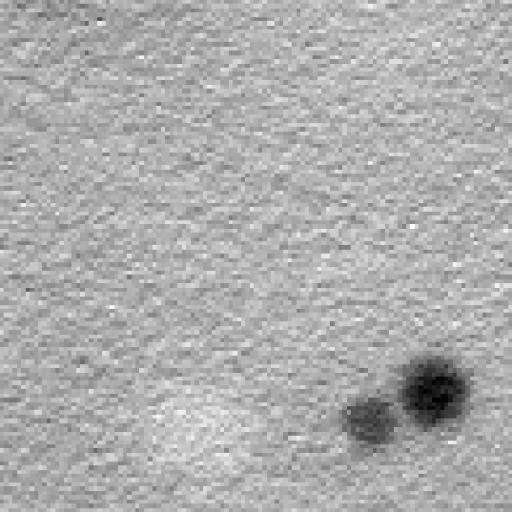Nanoparticles: (397, 352, 473, 430), (342, 394, 402, 450)
